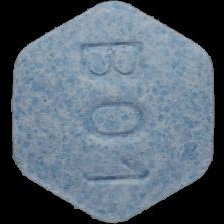43063-482: (0, 0, 224, 224)
